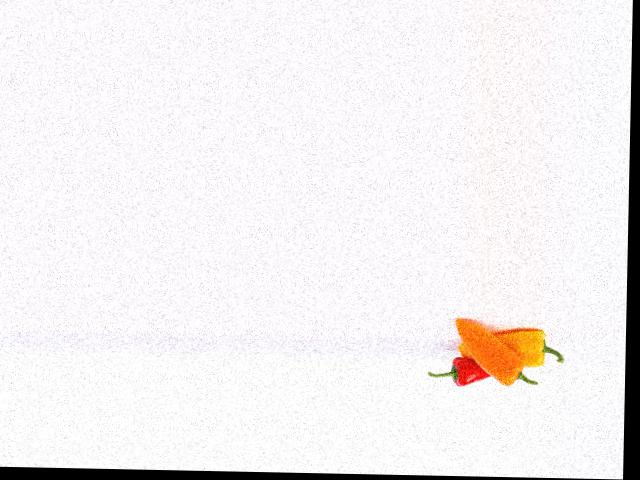bell_pepper: (484, 320, 567, 372)
